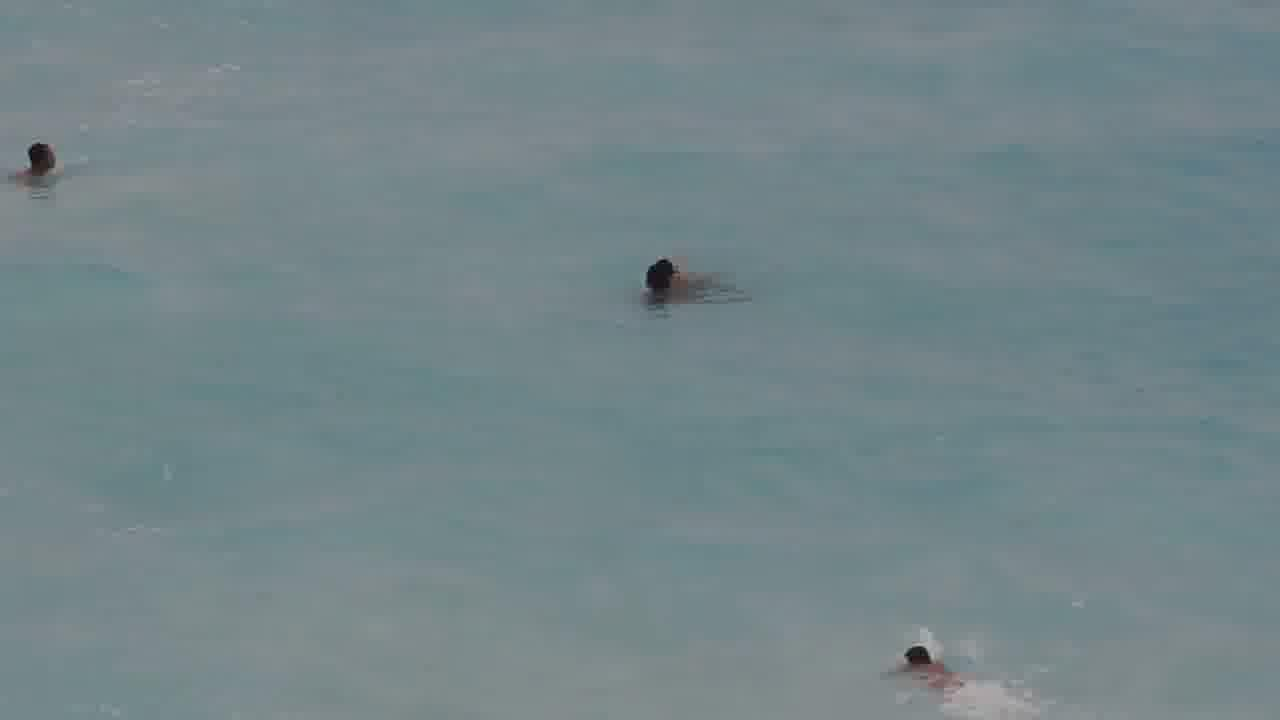swimmer: (618, 249, 725, 342), (871, 640, 985, 697), (13, 125, 79, 203)
